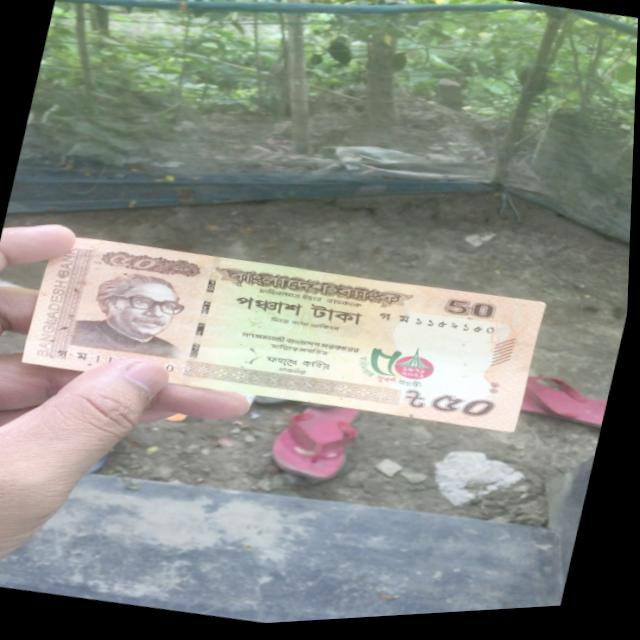Taka: (24, 211, 555, 464)
